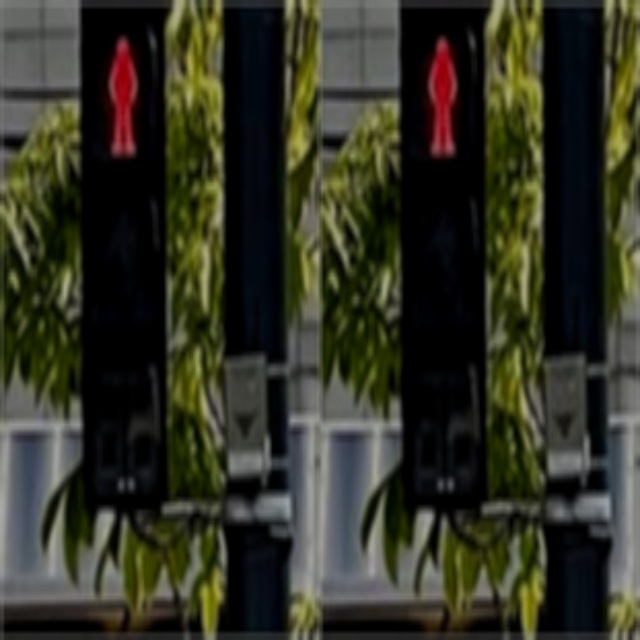red_light: (103, 35, 143, 160), (424, 30, 463, 158)
